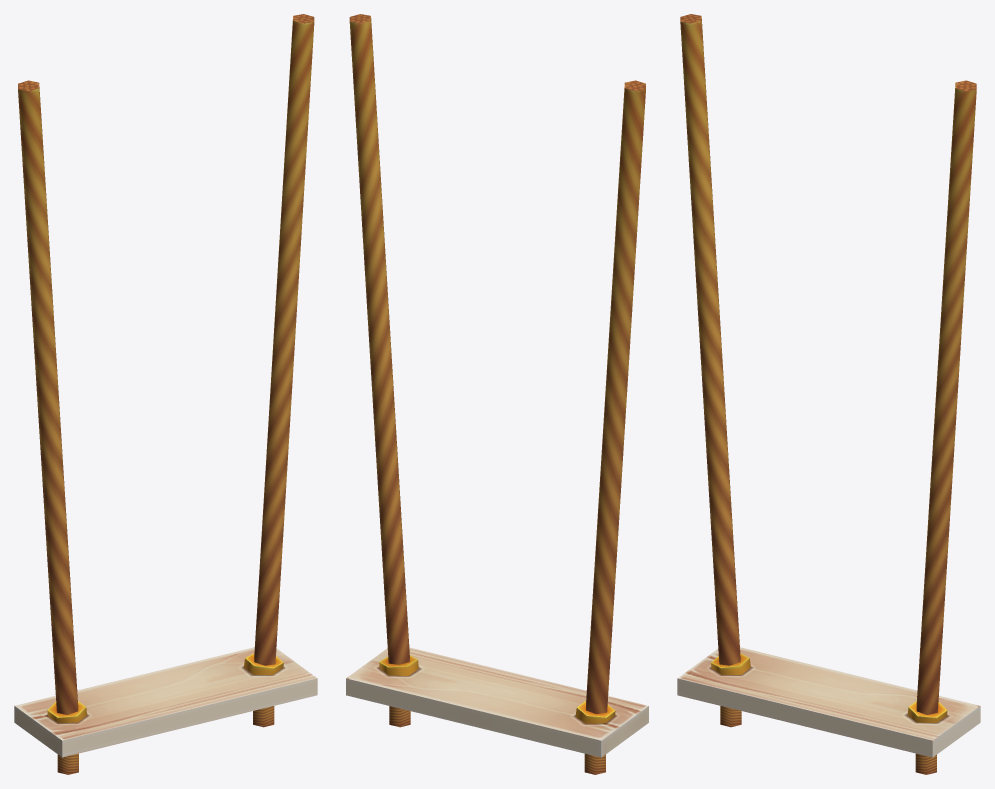
File: SE_Swing_03.fbx
3 views of the same model, side by side, from view 1: azimuth 30°, elevation 25°; view 2: azimuth 150°, elevation 25°; view 3: azimuth 330°, elevation 25° (orthographic).
Parts seen in each view (by area): view 1: SE_Swing_03; view 2: SE_Swing_03; view 3: SE_Swing_03.
Part boxes in pixels (x1,y1,x2,y2): SE_Swing_03: [14, 14, 317, 774]; SE_Swing_03: [346, 14, 648, 774]; SE_Swing_03: [677, 14, 980, 774].
Bounding box in the file's own units: 2.45 × 5.48 × 0.6819.
